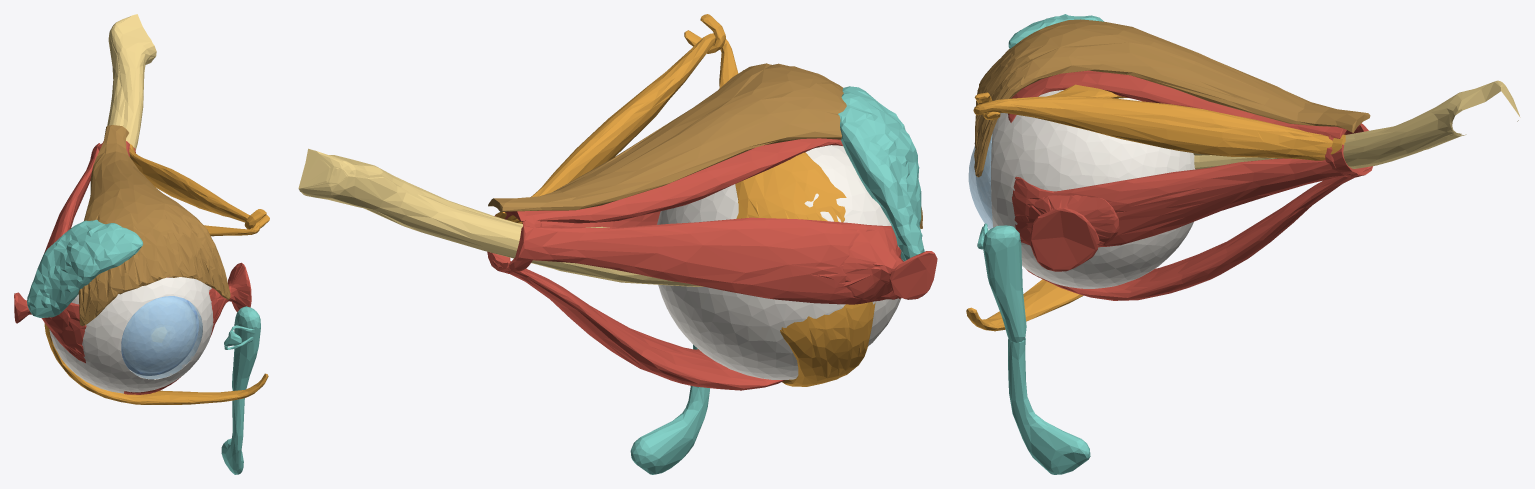
The model's file is eye.glb.
3 renders of one model, left to right at view 1: azimuth 30°, elevation 25°; view 2: azimuth 150°, elevation 25°; view 3: azimuth 270°, elevation 25°, orthographic. The views are drawn at different scales.
Visible parts, largest first — view 1: levator, lacrimal, sclera, obliques, cornea, recti, opticnerve, iris, vitreous; view 2: recti, levator, obliques, sclera, lacrimal, opticnerve; view 3: recti, levator, sclera, obliques, lacrimal, opticnerve, cornea.
Part boxes in pixels (left/top/right/bottom): levator: left=78, top=125, right=230, bottom=325; lacrimal: left=27, top=219, right=260, bottom=474; sclera: left=49, top=277, right=213, bottom=393; obliques: left=44, top=144, right=269, bottom=404; cornea: left=121, top=296, right=202, bottom=379; recti: left=14, top=141, right=251, bottom=394; opticnerve: left=107, top=14, right=156, bottom=149; iris: left=121, top=296, right=198, bottom=375; vitreous: left=125, top=298, right=195, bottom=372; recti: left=487, top=138, right=937, bottom=390; levator: left=488, top=63, right=922, bottom=228; obliques: left=495, top=14, right=875, bottom=386; sclera: left=657, top=145, right=900, bottom=379; lacrimal: left=630, top=86, right=924, bottom=474; opticnerve: left=298, top=148, right=703, bottom=286; recti: left=1008, top=70, right=1373, bottom=300; levator: left=974, top=19, right=1370, bottom=177; sclera: left=991, top=90, right=1195, bottom=288; obliques: left=966, top=84, right=1345, bottom=331; lacrimal: left=977, top=14, right=1103, bottom=474; opticnerve: left=1193, top=80, right=1520, bottom=169; cornea: left=968, top=134, right=993, bottom=229.
Size of the model in its own units: 0.0485 by 0.0546 by 0.0642.
